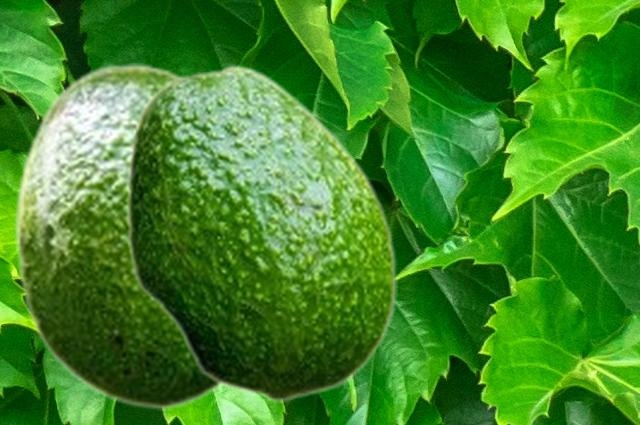avocado: (124, 63, 396, 401), (12, 63, 226, 409)
